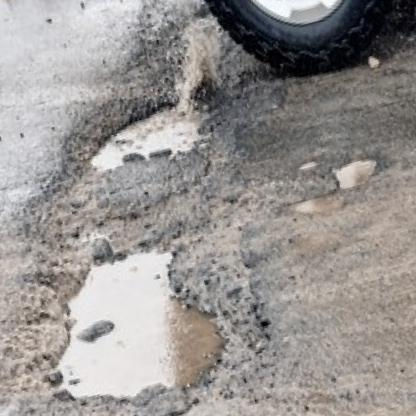pothole: (8, 218, 253, 416), (69, 77, 227, 195)
